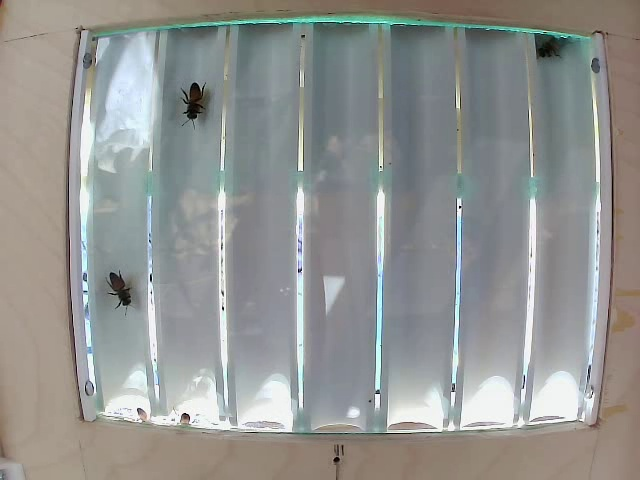bee: (173, 74, 209, 146), (95, 265, 127, 311)
